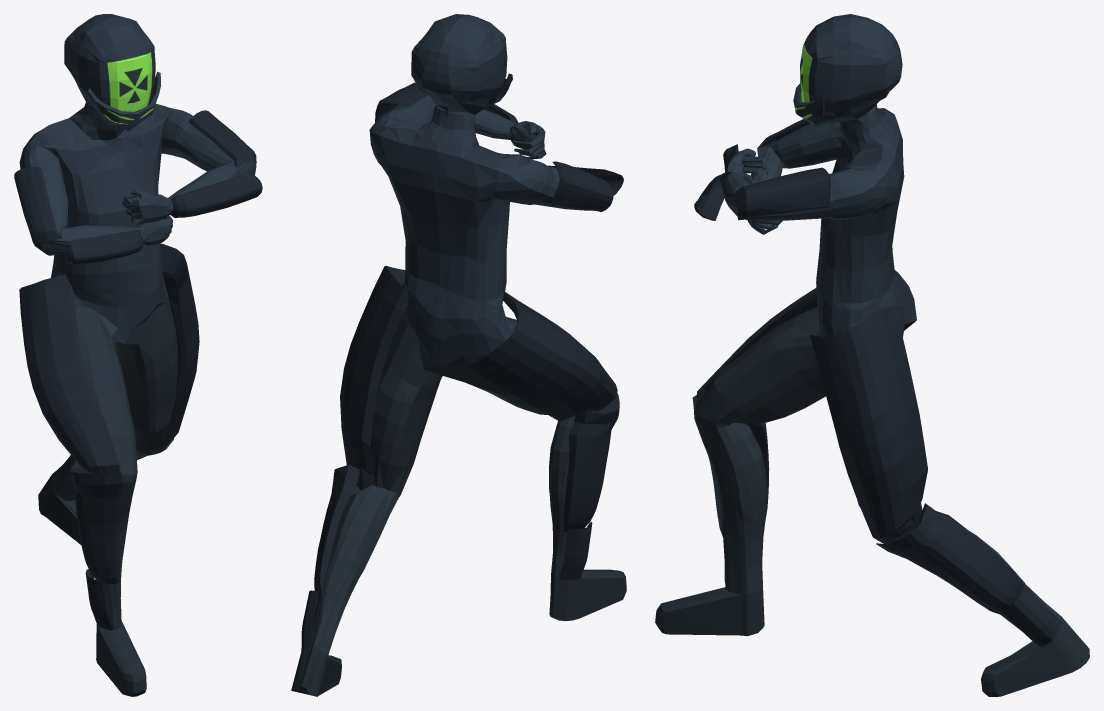
Rendered from Bastion_WL_000011.obj.
3 views of the same model, side by side, from view 1: azimuth 30°, elevation 25°; view 2: azimuth 150°, elevation 25°; view 3: azimuth 270°, elevation 25° (orthographic). The views are drawn at different scales.
Parts seen in each view (by area): view 1: Cube.002; view 2: Cube.002; view 3: Cube.002.
Part boxes in pixels (x1,y1,x2,y2): Cube.002: (14,14,262,696); Cube.002: (291,14,626,696); Cube.002: (655,14,1089,696).
Size of the model in its own units: 1.3 by 3.53 by 2.16.
